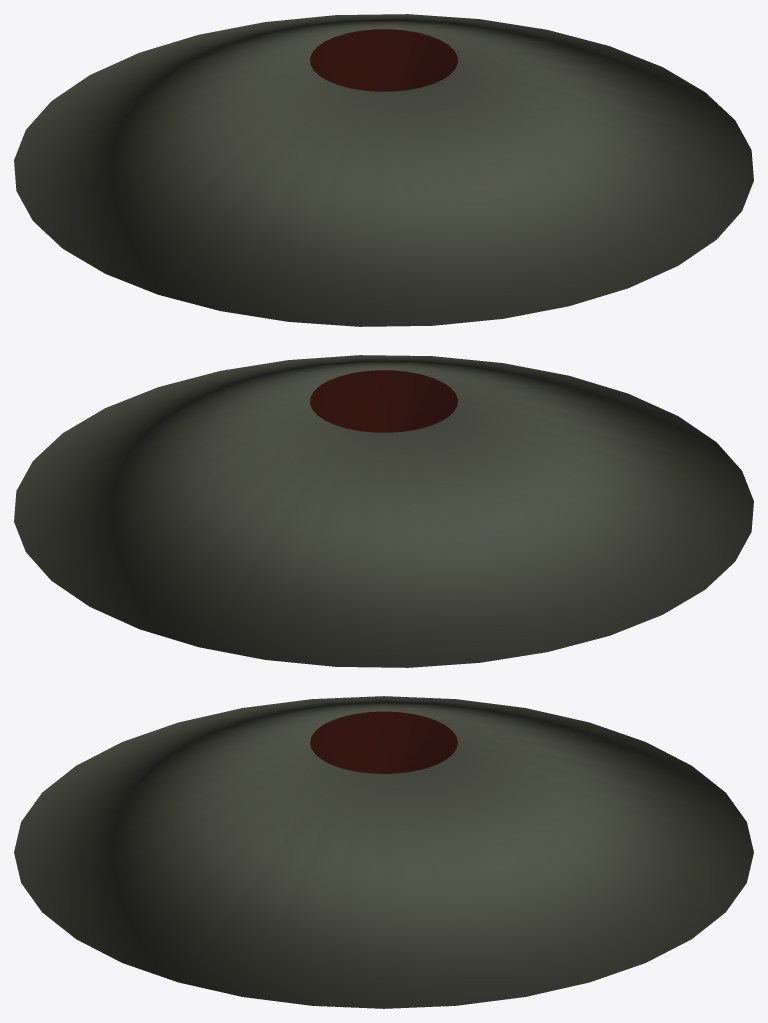
The model's file is Volcano.fbx.
3 views of the same model, one above another, from view 1: azimuth 30°, elevation 25°; view 2: azimuth 150°, elevation 25°; view 3: azimuth 270°, elevation 25° (orthographic).
Parts seen in each view (by area): view 1: Volcano; view 2: Volcano; view 3: Volcano.
Part boxes in pixels (box(x1,y1,x2,y2)): Volcano: box(14, 14, 753, 326); Volcano: box(14, 355, 753, 667); Volcano: box(14, 696, 753, 1008).
Bounding box in the file's own units: 1100 × 180 × 1100.
